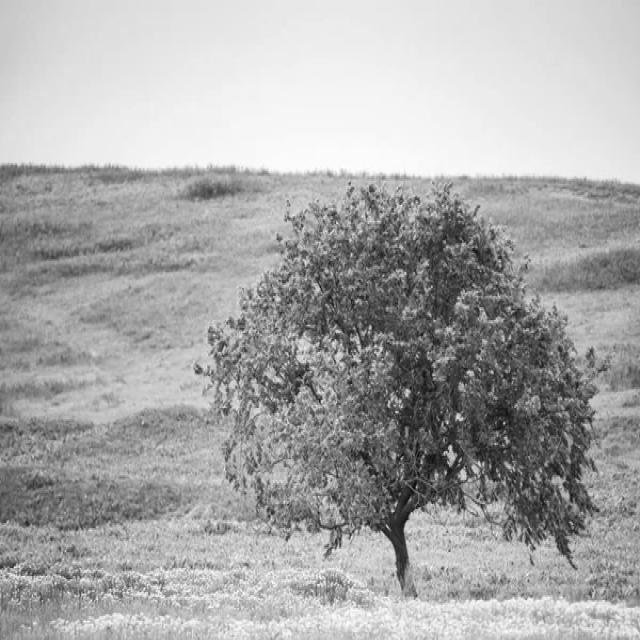Tree: (205, 184, 598, 598)
